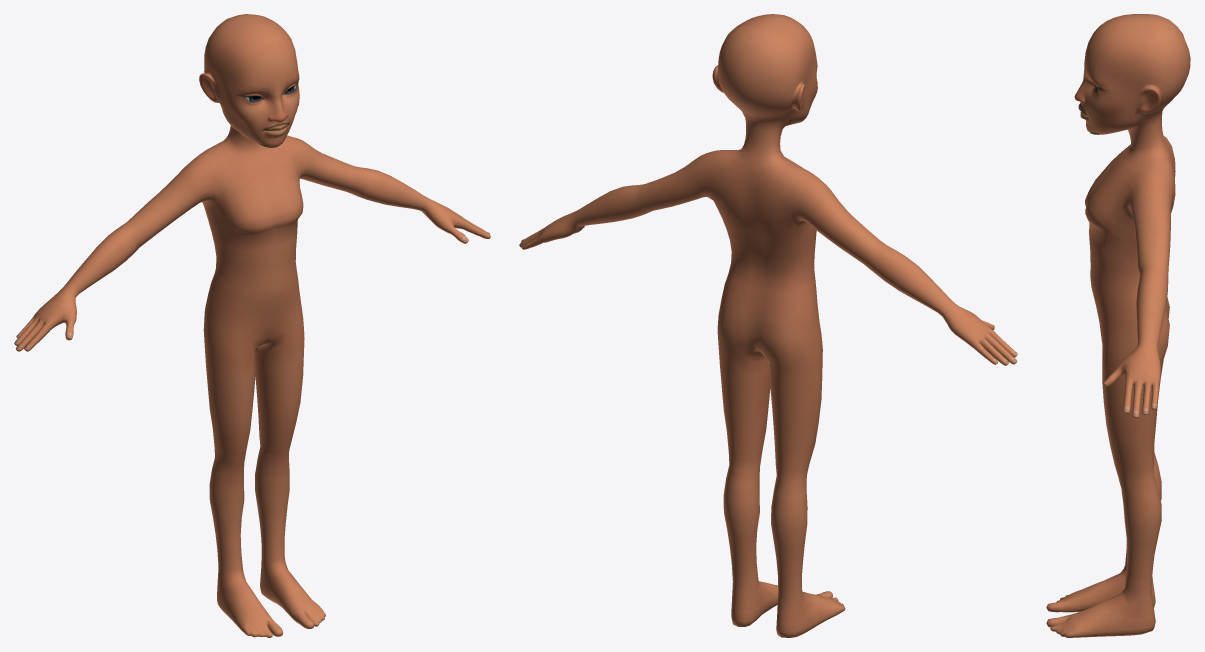
Rendered from frame_0083.glb.
3 renders of one model, left to right at view 1: azimuth 30°, elevation 25°; view 2: azimuth 150°, elevation 25°; view 3: azimuth 270°, elevation 25°, orthographic. The views are drawn at different scales.
Visible parts, largest first — view 1: frame_0083_head_geo; view 2: frame_0083_head_geo; view 3: frame_0083_head_geo.
Part boxes in pixels (x1,y1,x2,y2): frame_0083_head_geo: [14, 14, 490, 637]; frame_0083_head_geo: [519, 14, 1017, 637]; frame_0083_head_geo: [1046, 14, 1190, 637].
Bounding box in the file's own units: 1.28 × 1.5 × 0.3253.
3 materials, 3 textured.
